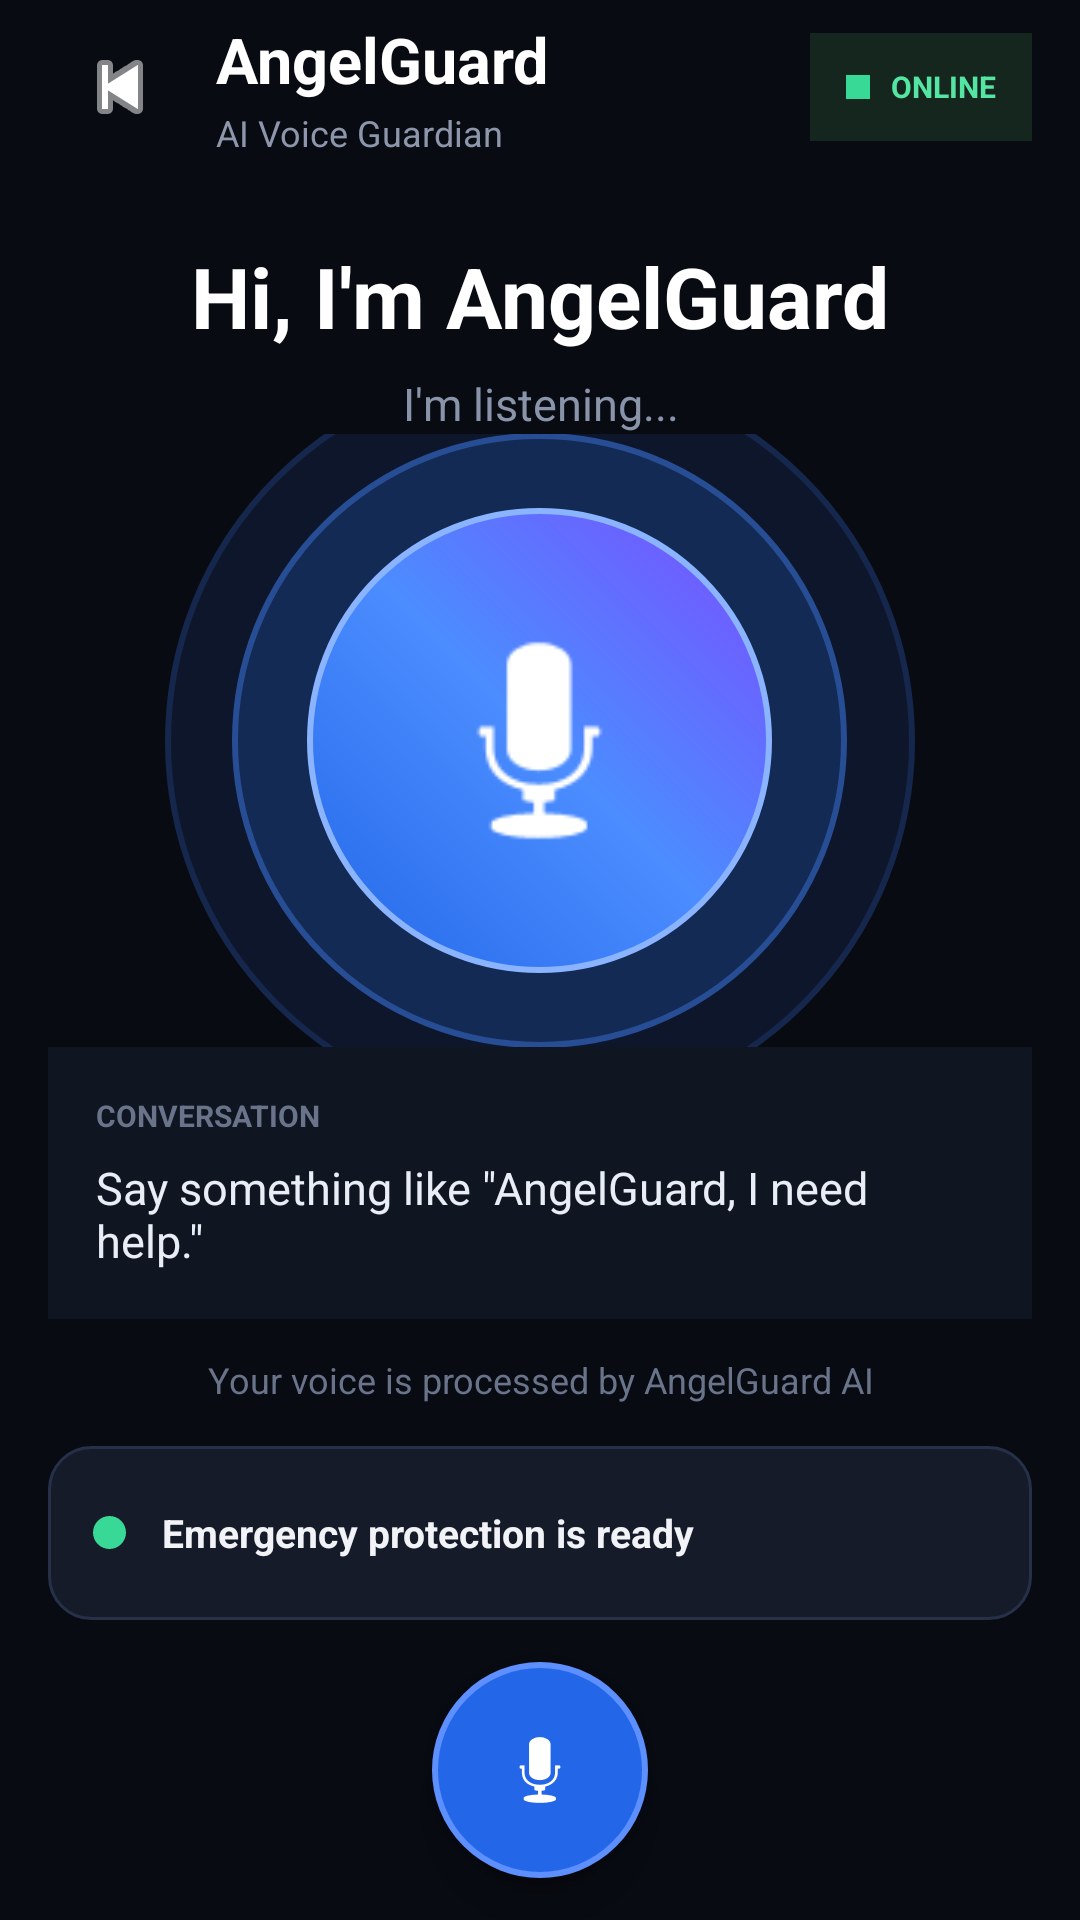

Icons on this 1080x1920 Android screen, each with its box as (x1, y1, x2, y2):
Back: (97, 60, 143, 114)
